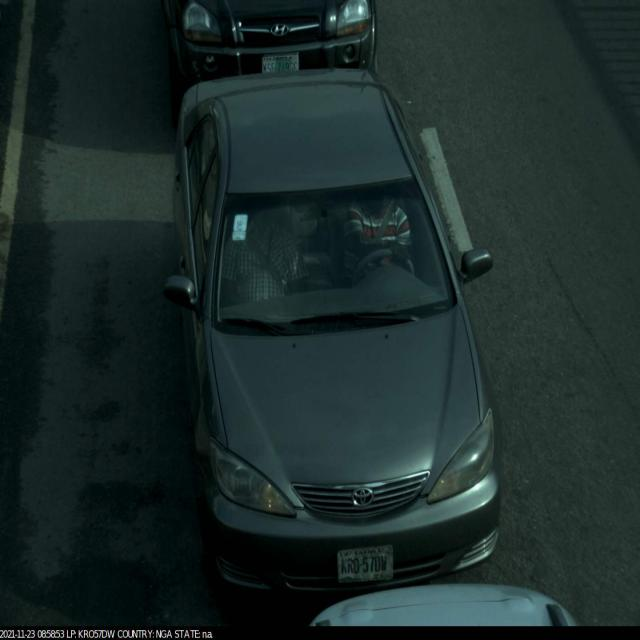windshield: (198, 167, 461, 337)
